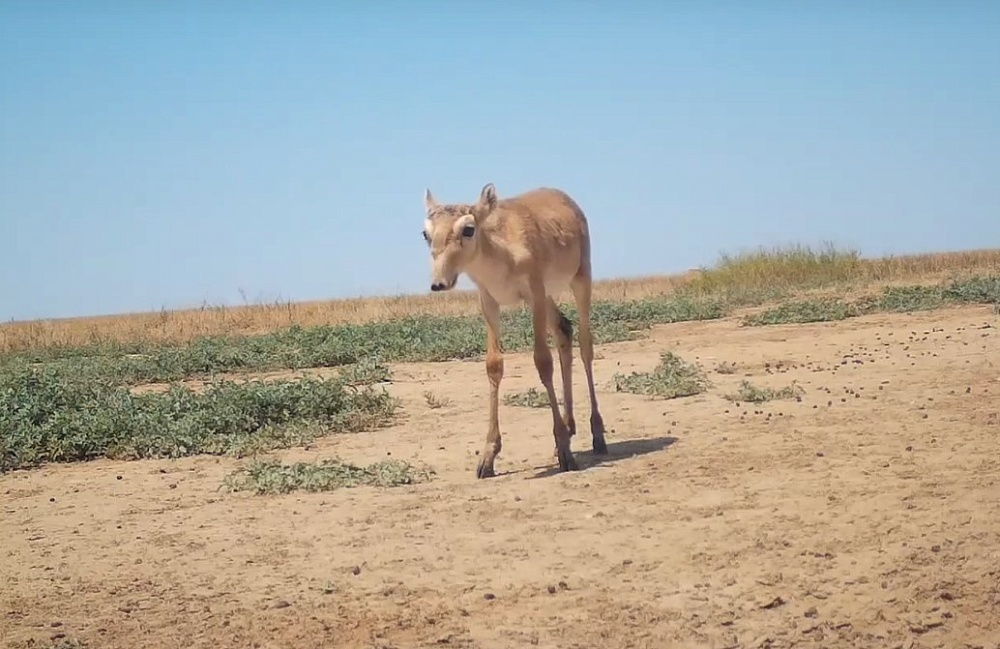saiga: (420, 183, 617, 478)
